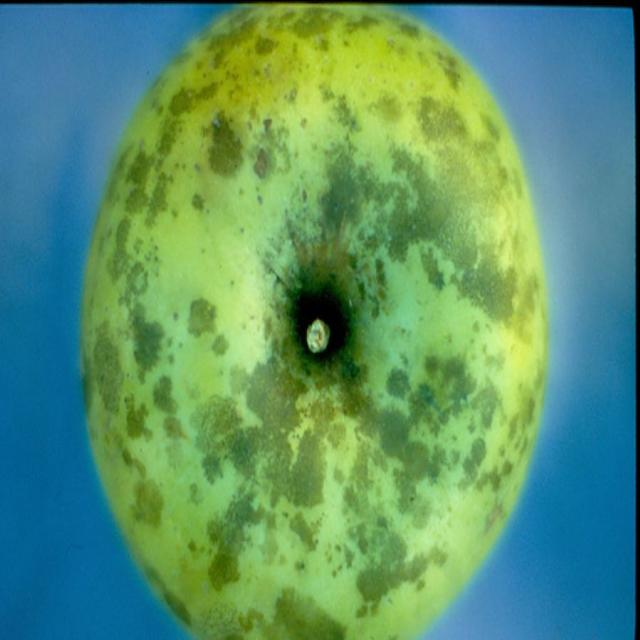Rotten Apple: (44, 3, 558, 626)
